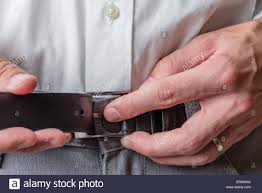F_belt: (1, 82, 217, 161)
